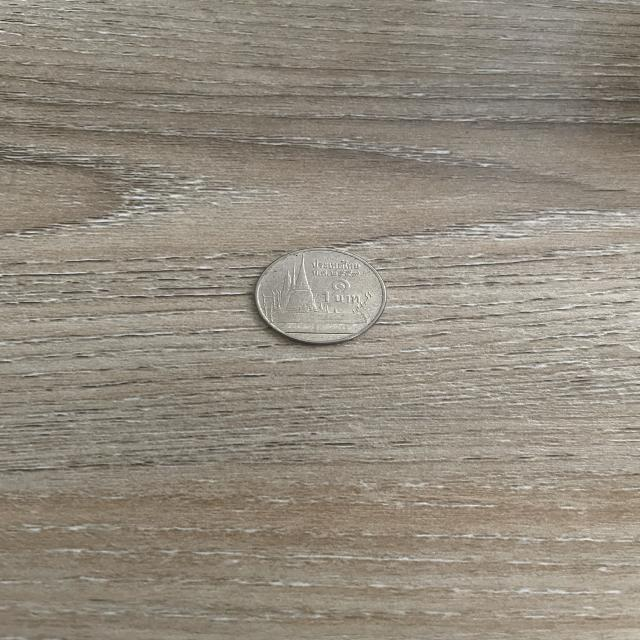1 Bath: (245, 241, 400, 352)
